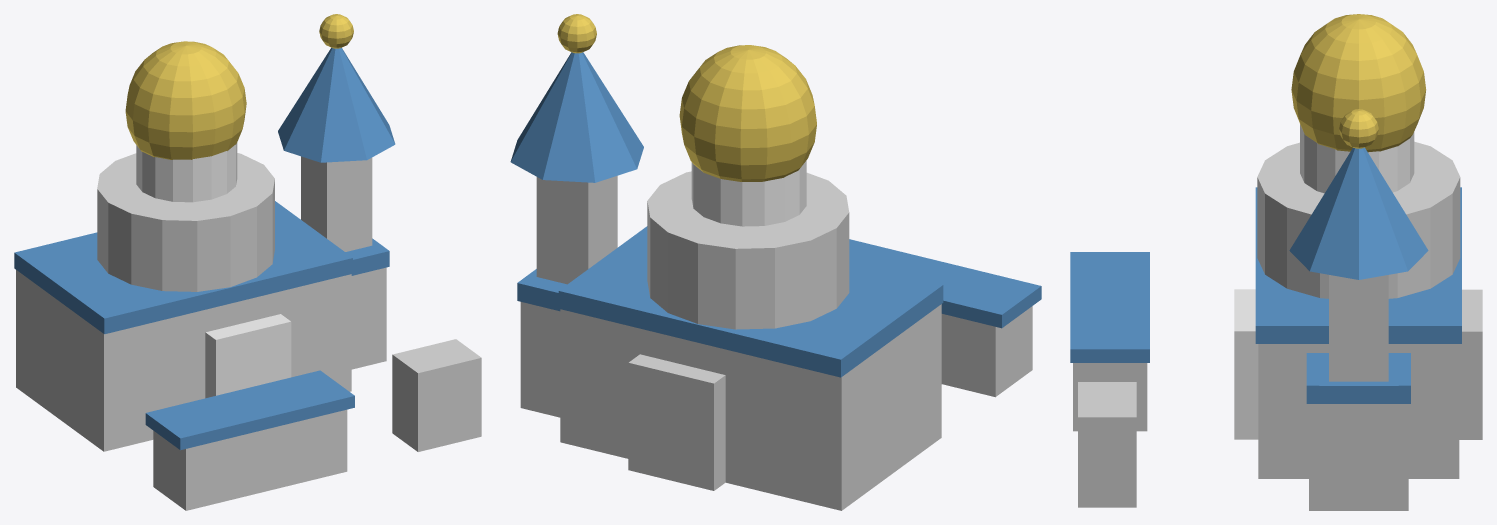
The model's file is карта.glb.
The picture shows the model from 3 angles, left to right: view 1: azimuth 30°, elevation 25°; view 2: azimuth 150°, elevation 25°; view 3: azimuth 270°, elevation 25°; orthographic projection. The views are drawn at different scales.
Visible parts, largest first — view 1: Куб, Цилиндр, Куб.004, Куб.009, Сфера, Куб.008, Куб.010, Конус, Куб.007, Куб.011, Цилиндр.002, Куб.002 (+2 smaller); view 2: Куб, Цилиндр, Куб.004, Сфера, Куб.003, Конус, Куб.007, Куб.010, Куб.009, Цилиндр.002, Куб.002, Сфера.001 (+1 smaller); view 3: Куб, Цилиндр, Сфера, Конус, Куб.010, Куб.004, Куб.001, Куб.008, Куб.007, Куб.011, Куб.003, Цилиндр.002 (+5 smaller).
Boxes of the visible parts, x1=… form: Куб: x1=16, y1=270, x2=351, y2=451; Цилиндр: x1=97, y1=153, x2=274, y2=291; Куб.004: x1=14, y1=201, x2=352, y2=334; Куб.009: x1=153, y1=409, x2=347, y2=510; Сфера: x1=125, y1=41, x2=246, y2=159; Куб.008: x1=392, y1=339, x2=481, y2=451; Куб.010: x1=145, y1=370, x2=354, y2=450; Конус: x1=278, y1=47, x2=395, y2=162; Куб.007: x1=301, y1=156, x2=372, y2=251; Куб.011: x1=205, y1=314, x2=291, y2=398; Цилиндр.002: x1=136, y1=143, x2=237, y2=202; Куб.002: x1=351, y1=267, x2=386, y2=369; Куб: x1=560, y1=304, x2=941, y2=510; Цилиндр: x1=647, y1=171, x2=849, y2=329; Куб.004: x1=558, y1=226, x2=943, y2=377; Сфера: x1=679, y1=45, x2=816, y2=181; Куб.003: x1=628, y1=354, x2=725, y2=490; Конус: x1=510, y1=52, x2=643, y2=182; Куб.007: x1=536, y1=175, x2=617, y2=284; Куб.010: x1=849, y1=239, x2=1041, y2=328; Куб.009: x1=941, y1=306, x2=1032, y2=397; Цилиндр.002: x1=691, y1=160, x2=806, y2=226; Куб.002: x1=520, y1=302, x2=560, y2=417; Сфера.001: x1=557, y1=14, x2=596, y2=53; Куб: x1=1258, y1=344, x2=1459, y2=478; Цилиндр: x1=1257, y1=141, x2=1460, y2=298; Сфера: x1=1291, y1=14, x2=1426, y2=152; Конус: x1=1289, y1=147, x2=1428, y2=279; Куб.010: x1=1070, y1=252, x2=1149, y2=362; Куб.004: x1=1255, y1=187, x2=1461, y2=343; Куб.001: x1=1321, y1=404, x2=1396, y2=510; Куб.008: x1=1078, y1=382, x2=1136, y2=507; Куб.007: x1=1329, y1=275, x2=1388, y2=381; Куб.011: x1=1234, y1=289, x2=1258, y2=439; Куб.003: x1=1459, y1=289, x2=1482, y2=439; Цилиндр.002: x1=1300, y1=124, x2=1414, y2=193.
Bounding box in the file's own units: 8.89 × 8.69 × 8.29.
